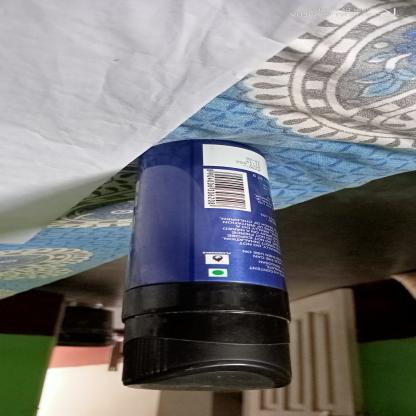bottle: (117, 140, 301, 396)
